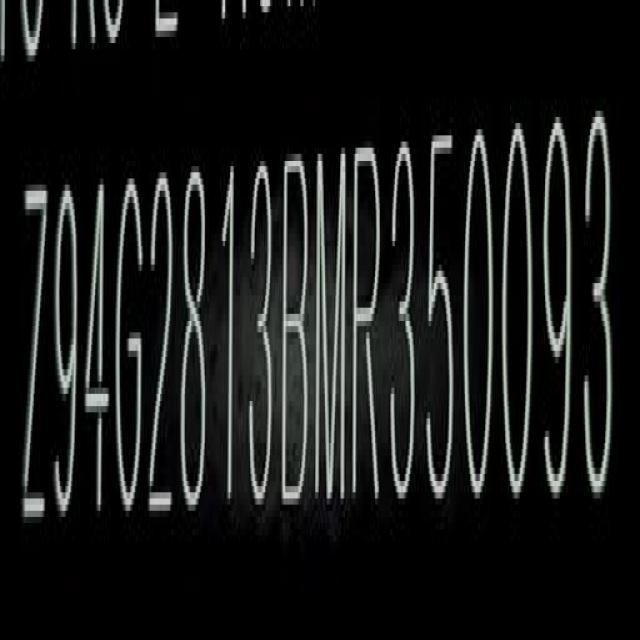0: (501, 119, 536, 506), (460, 127, 494, 506)
1: (218, 157, 238, 504)
2: (148, 168, 175, 526)
3: (586, 106, 620, 504), (393, 135, 421, 510), (250, 155, 277, 515)
4: (86, 177, 116, 528)
5: (428, 124, 458, 503)
8: (182, 167, 210, 518)
9: (542, 110, 576, 507), (50, 180, 78, 534)
B: (282, 147, 314, 511)
G: (116, 175, 147, 520)
M: (316, 144, 348, 512)
R: (351, 141, 385, 509)
Z: (20, 182, 48, 542)
